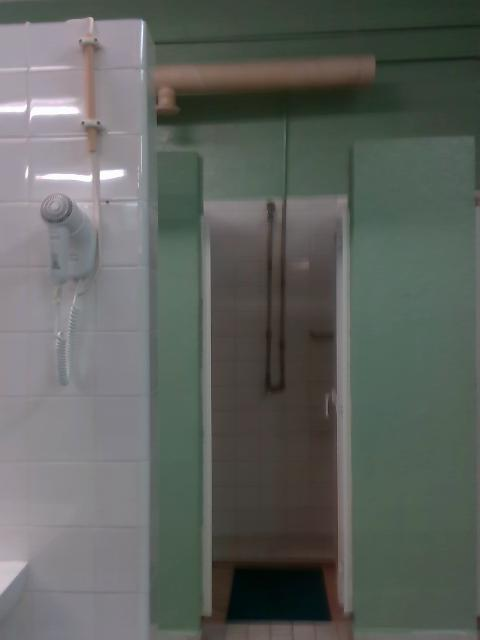open_door: (196, 185, 356, 623)
